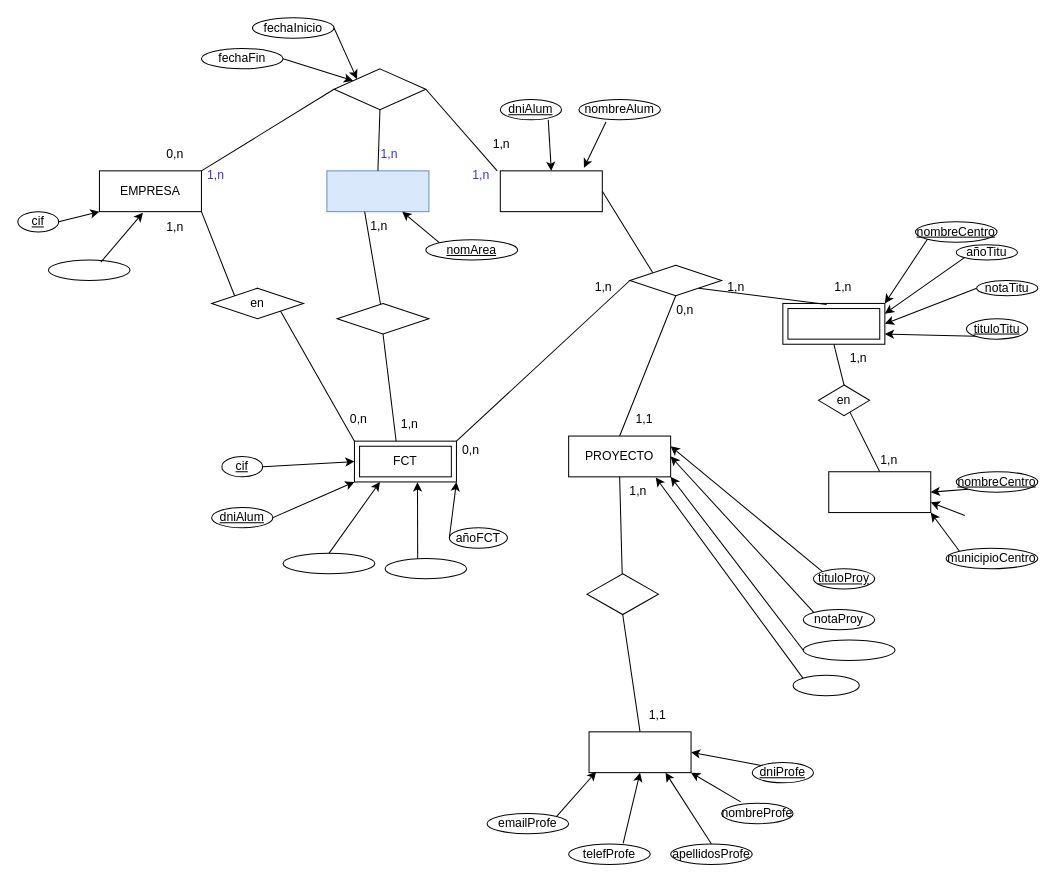
Some shapes in this 1056 by 882 pixel diagram are drawn without their labels. The centre of each missing label's shape, as x and y in pixels:
abarca: point (382, 318)
ALUMNO: point (550, 191)
AREAS: point (377, 191)
asigna: point (622, 594)
CENTRO: point (879, 492)
convocatoria: point (425, 568)
descripcionProy: point (848, 649)
fechaProy: point (825, 685)
nombreEmpre: point (88, 269)
numConvenio: point (328, 563)
PROFESOR: point (639, 752)
realiza: point (675, 280)
TITULACION: point (833, 323)
trabajar: point (379, 89)
